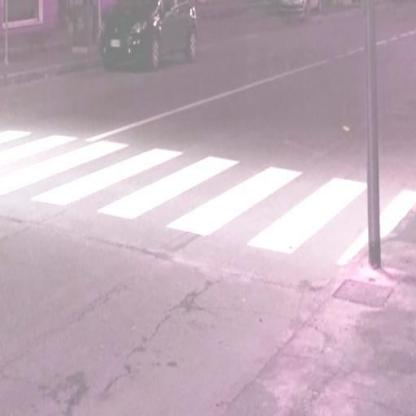crosswalk: (98, 140, 306, 244)
